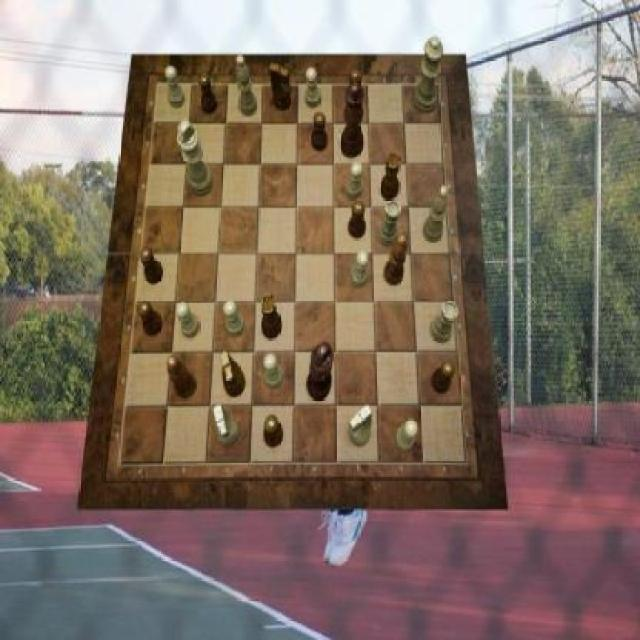bishop: (168, 356, 198, 400), (384, 234, 408, 288)
black-bishop: (306, 342, 334, 402)
black-king: (220, 352, 246, 398), (269, 65, 292, 112)
black-knight: (138, 246, 162, 284), (139, 300, 163, 336), (198, 74, 218, 115), (430, 360, 454, 394), (310, 112, 328, 152), (346, 69, 363, 111), (264, 416, 284, 450), (348, 200, 365, 238)
black-pawn: (340, 82, 365, 159)
black-queen: (380, 152, 401, 200), (262, 294, 282, 339)
black-rook: (423, 186, 448, 242), (236, 55, 256, 117)
white-bishop: (177, 119, 214, 196)
white-king: (214, 405, 240, 446), (350, 405, 372, 446)
white-knight: (176, 302, 200, 339), (166, 65, 186, 107), (224, 300, 246, 338), (396, 418, 418, 452), (264, 352, 284, 387), (351, 249, 368, 287), (304, 68, 320, 108), (345, 162, 362, 199)
white-pawn: (414, 37, 444, 113)
white-queen: (431, 301, 458, 344), (378, 200, 402, 246)
